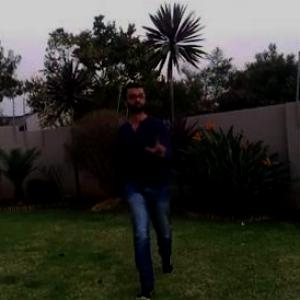land_hand: (141, 127, 171, 164)
